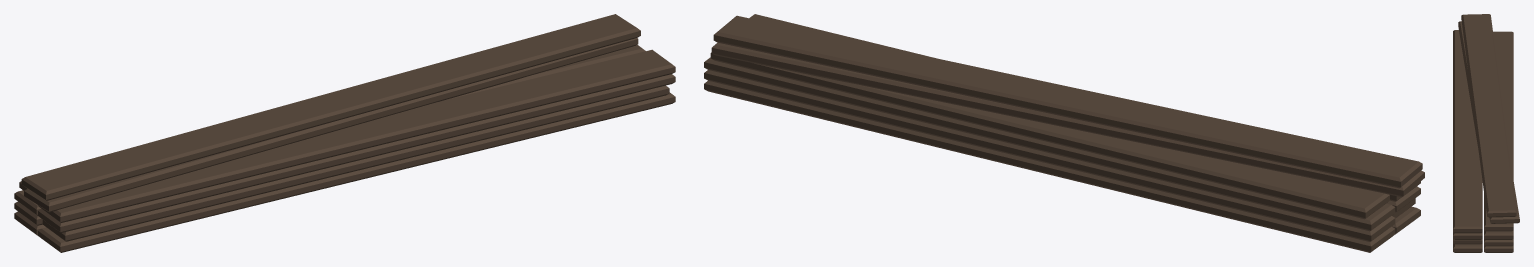
File: props_81.glb
3 views of the same model, side by side, from view 1: azimuth 30°, elevation 25°; view 2: azimuth 150°, elevation 25°; view 3: azimuth 270°, elevation 25° (orthographic). The views are drawn at different scales.
Visible parts, largest first — view 1: props_81; view 2: props_81; view 3: props_81.
Boxes of the visible parts, left/top/right/bottom form: props_81: left=14, top=14, right=675, bottom=252; props_81: left=704, top=14, right=1424, bottom=252; props_81: left=1453, top=14, right=1519, bottom=252.
Size of the model in its own units: 6.76 by 0.6131 by 0.9467.
1 material, 1 textured.
